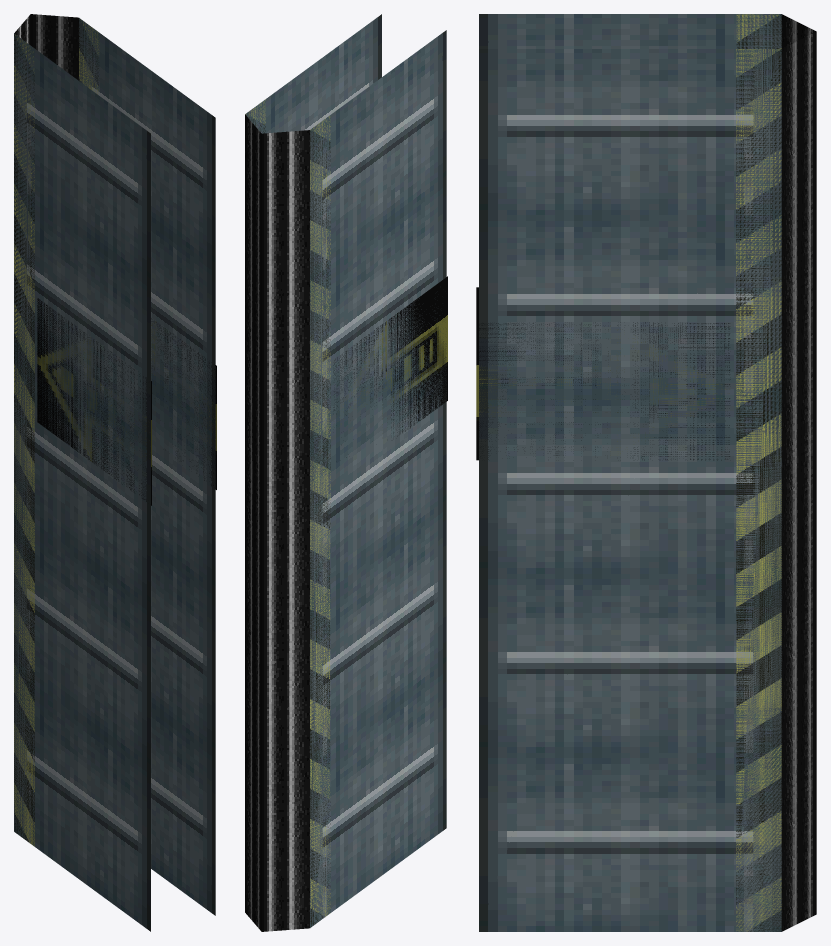
The model's file is primary_144.glb.
3 views of the same model, side by side, from view 1: azimuth 30°, elevation 25°; view 2: azimuth 150°, elevation 25°; view 3: azimuth 270°, elevation 25° (orthographic). The views are drawn at different scales.
Parts seen in each view (by area): view 1: Object; view 2: Object; view 3: Object.
Part boxes in pixels (x1,y1,x2,y2): Object: (14,14,216,931); Object: (245,14,447,931); Object: (476,14,816,931).
Bounding box in the file's own units: 0.204 × 2.4 × 0.8389.
7 materials, 7 textured.
